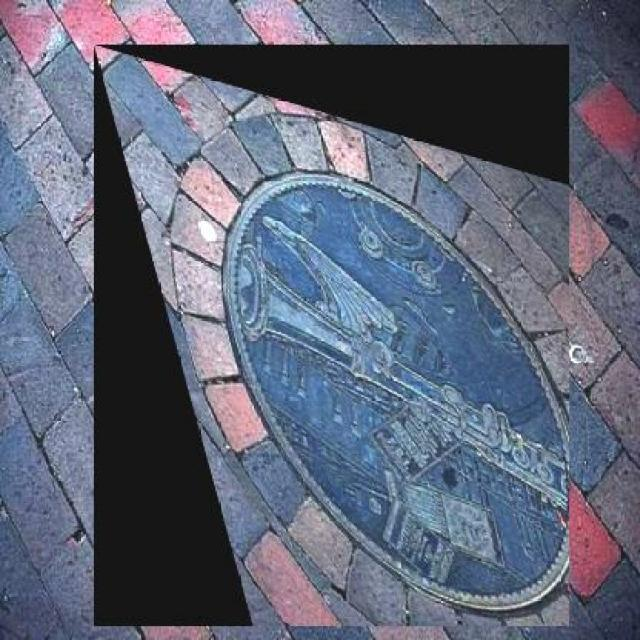Manhole: (93, 44, 570, 626)
